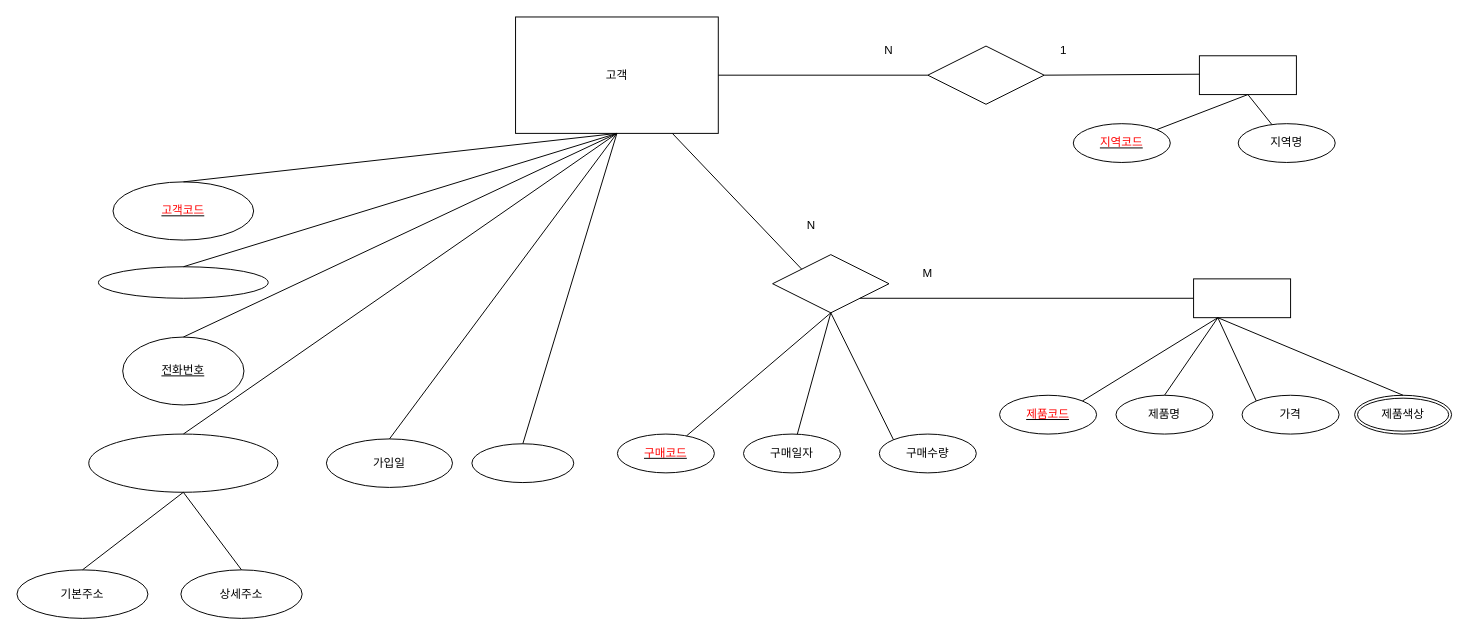
Some shapes in this 1469 by 635 pixel diagram are drawn without their labels. Here are the shapes that lost their labels. From the top down, the centre of each, then its label:
pixel 985 74: 관리
pixel 1247 75: 지역
pixel 182 282: 이메일
pixel 830 283: 구매
pixel 1242 298: 제품
pixel 183 462: 주소
pixel 522 463: 고객명
